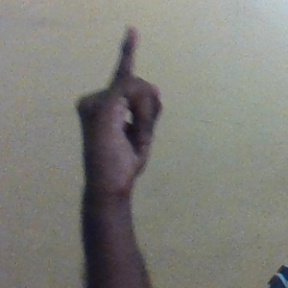I: (73, 25, 165, 188)
